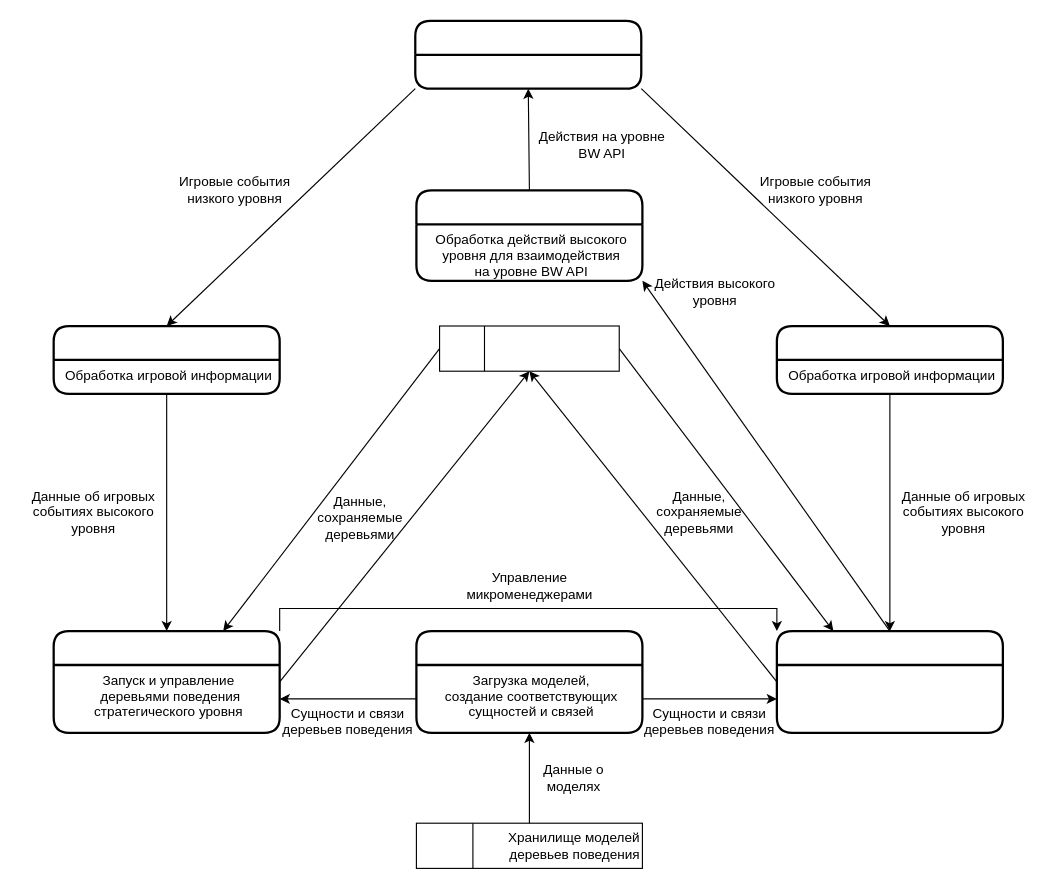
Image size: 1055x889. Some labels were removed from this diagram. The centre of each missing label's shape, as x and y in pixels:
BW API: the point at 528,54
Доска объявлений: the point at 528,348
Запуск и управление деревьями поведения тактического уровня: the point at 889,681
